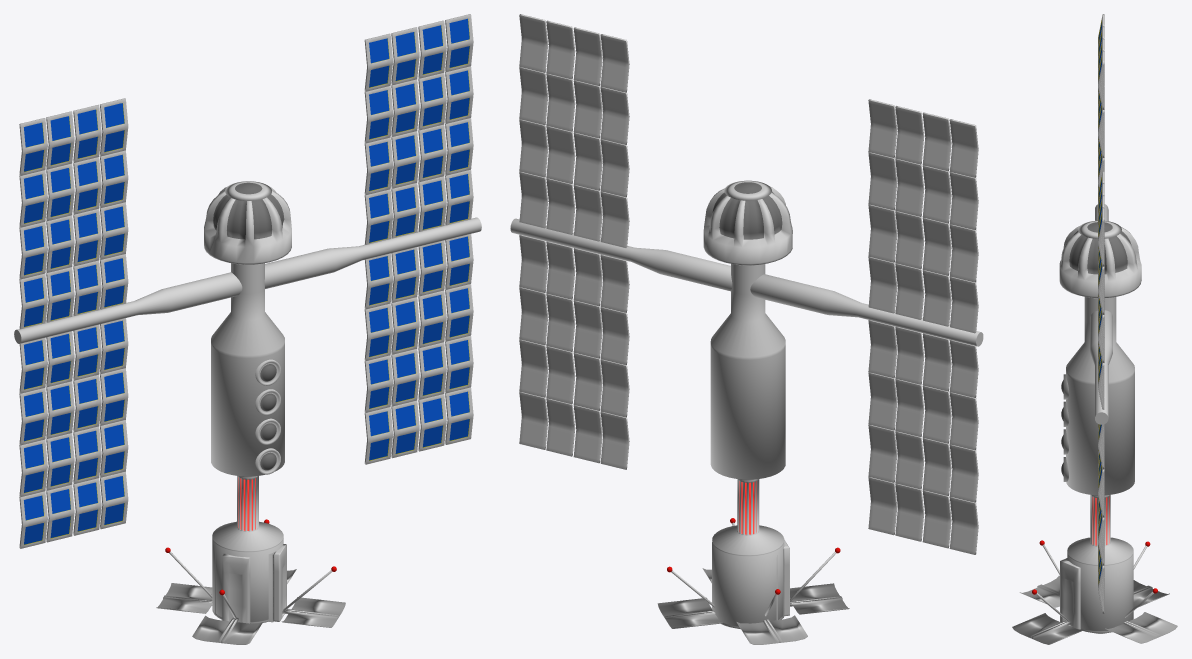
Rendered from space station.fbx.
The picture shows the model from 3 angles, left to right: view 1: azimuth 30°, elevation 25°; view 2: azimuth 150°, elevation 25°; view 3: azimuth 270°, elevation 25°; orthographic projection. The views are drawn at different scales.
Visible parts, largest first — view 1: Cube.002, Cylinder, Cylinder.001, Cube, Cube.001, Cylinder.002; view 2: Cube.002, Cylinder, Cylinder.001, Cube.001, Cube; view 3: Cylinder, Cube.002, Cube, Cube.001, Cylinder.001, Cylinder.002.
Boxes of the visible parts, left/top/right/bottom form: Cube.002: left=19, top=14, right=473, bottom=548; Cylinder: left=204, top=181, right=291, bottom=623; Cylinder.001: left=14, top=217, right=481, bottom=343; Cube: left=156, top=544, right=345, bottom=627; Cube.001: left=192, top=519, right=296, bottom=644; Cylinder.002: left=255, top=359, right=280, bottom=474; Cube.002: left=519, top=14, right=978, bottom=554; Cylinder: left=703, top=180, right=792, bottom=629; Cylinder.001: left=510, top=218, right=983, bottom=346; Cube.001: left=657, top=540, right=849, bottom=628; Cube: left=702, top=518, right=807, bottom=644; Cylinder: left=1059, top=220, right=1141, bottom=633; Cube.002: left=1098, top=14, right=1104, bottom=613; Cube: left=1012, top=541, right=1169, bottom=644; Cube.001: left=1019, top=540, right=1177, bottom=643; Cylinder.001: left=1090, top=204, right=1112, bottom=424; Cylinder.002: left=1061, top=374, right=1068, bottom=481.
Bounding box in the file's own units: 1487 × 1702 × 498.
